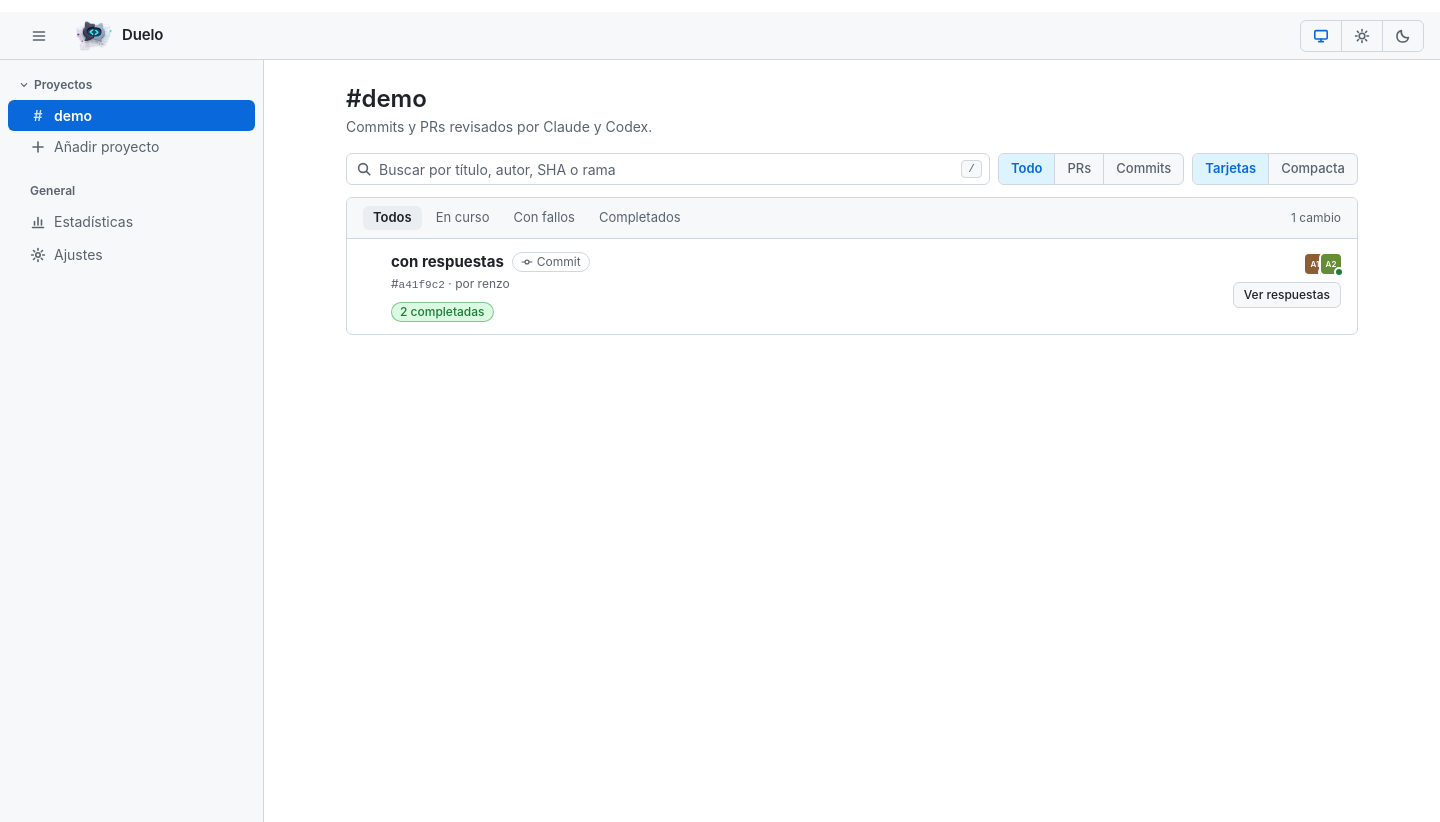
Test: channel reviews from the real API › keeps the light reviews and lets the user retry when the detail fails
Click the button "Ver respuestas" at [1287, 294], box [1233,282,1341,308]
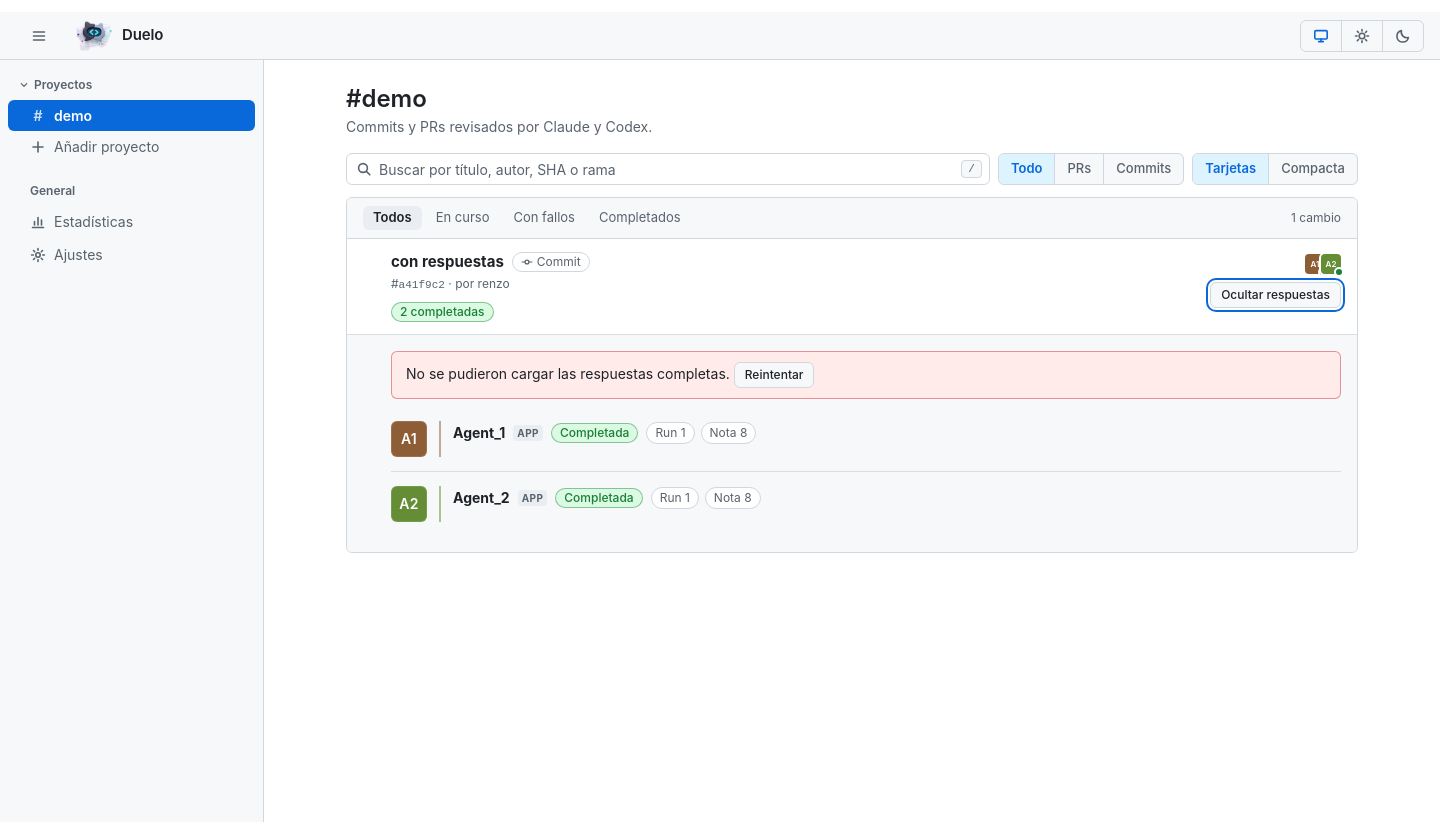
Expected: the message shows "No se pudieron cargar las respuestas completas.", [406,365,730,382]
Expected: the text "Agent_2" is shown, [453,487,510,508]
Click the button "Reintentar" at [774, 375], box [734,362,814,388]
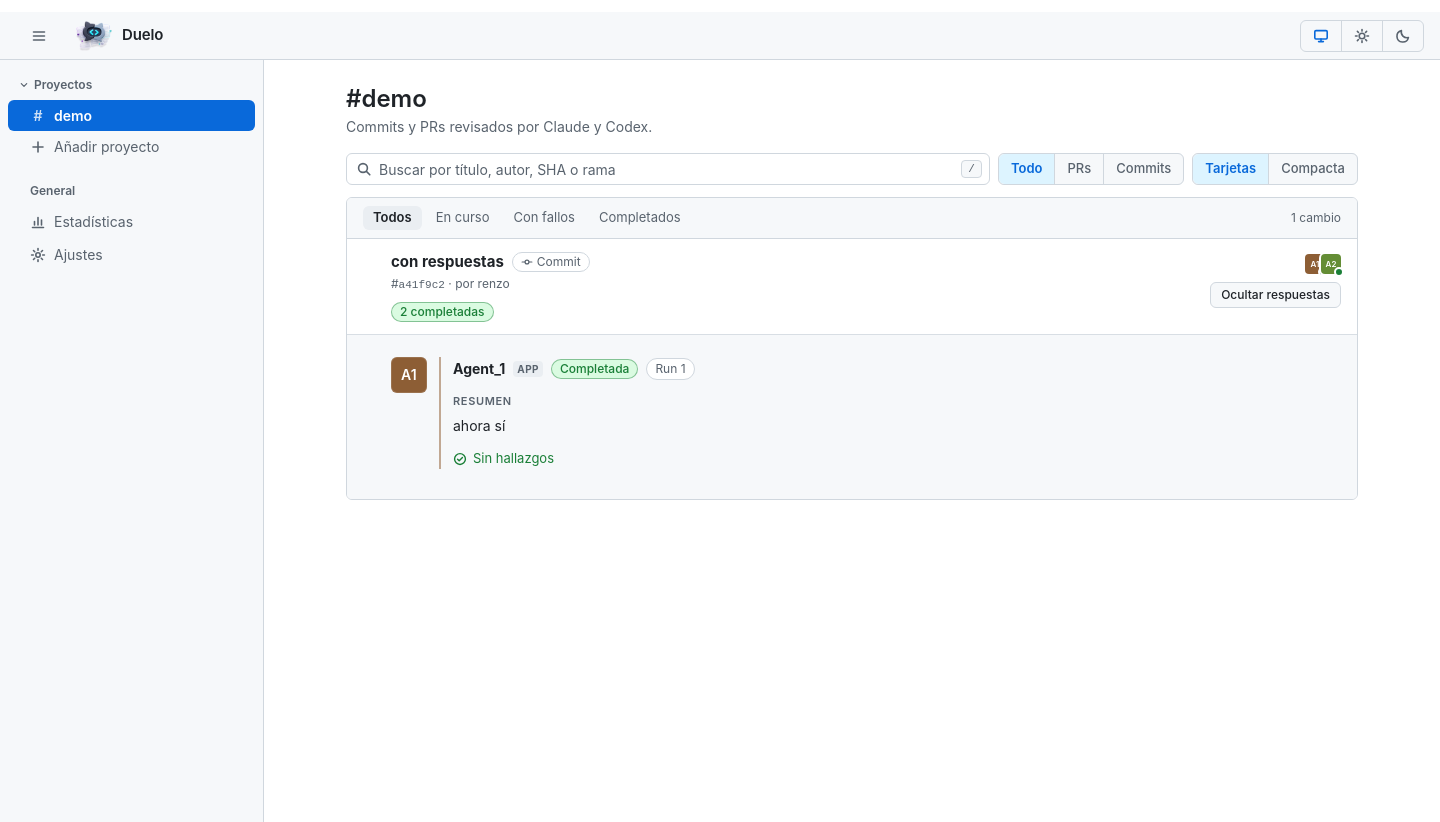
Expected: the text "ahora sí" is shown, [453,417,505,434]
